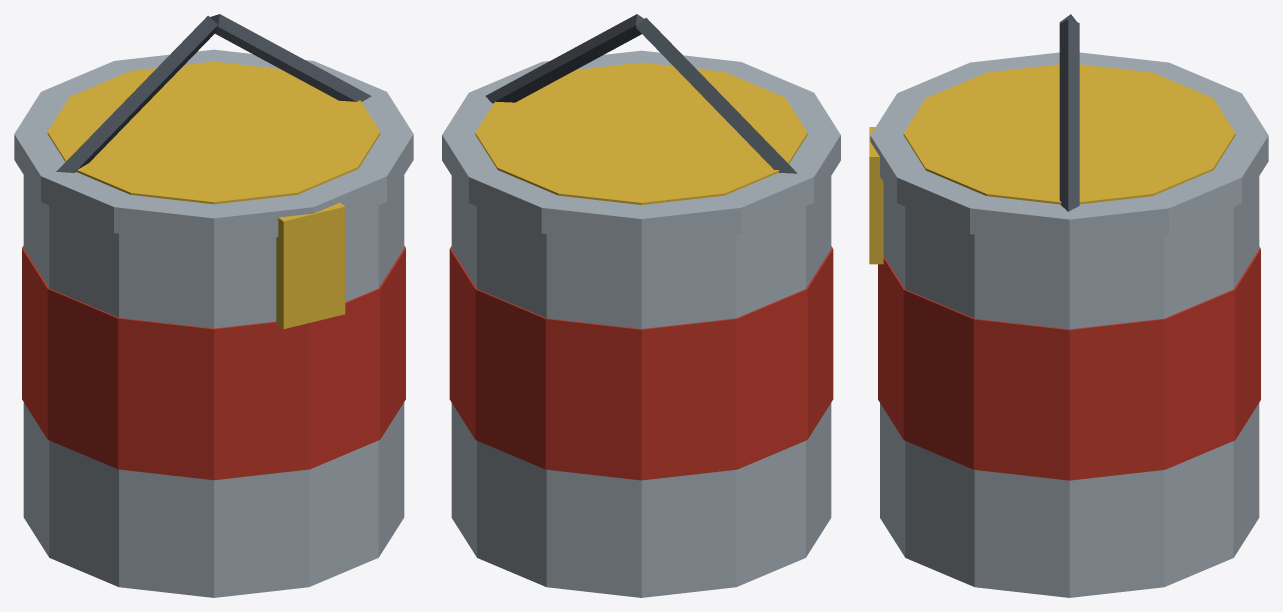
Rendered from GT_PaintCan_01.glb.
3 renders of one model, left to right at view 1: azimuth 30°, elevation 25°; view 2: azimuth 150°, elevation 25°; view 3: azimuth 270°, elevation 25°, orthographic.
Visible parts, largest first — view 1: GT_PaintCan_01; view 2: GT_PaintCan_01; view 3: GT_PaintCan_01.
Part boxes in pixels (bbox=[...]): GT_PaintCan_01: bbox=[14, 14, 413, 597]; GT_PaintCan_01: bbox=[442, 14, 840, 597]; GT_PaintCan_01: bbox=[869, 14, 1268, 597].
Bounding box in the file's own units: 0.168 × 0.2334 × 0.1685.
1 material, 1 textured.
